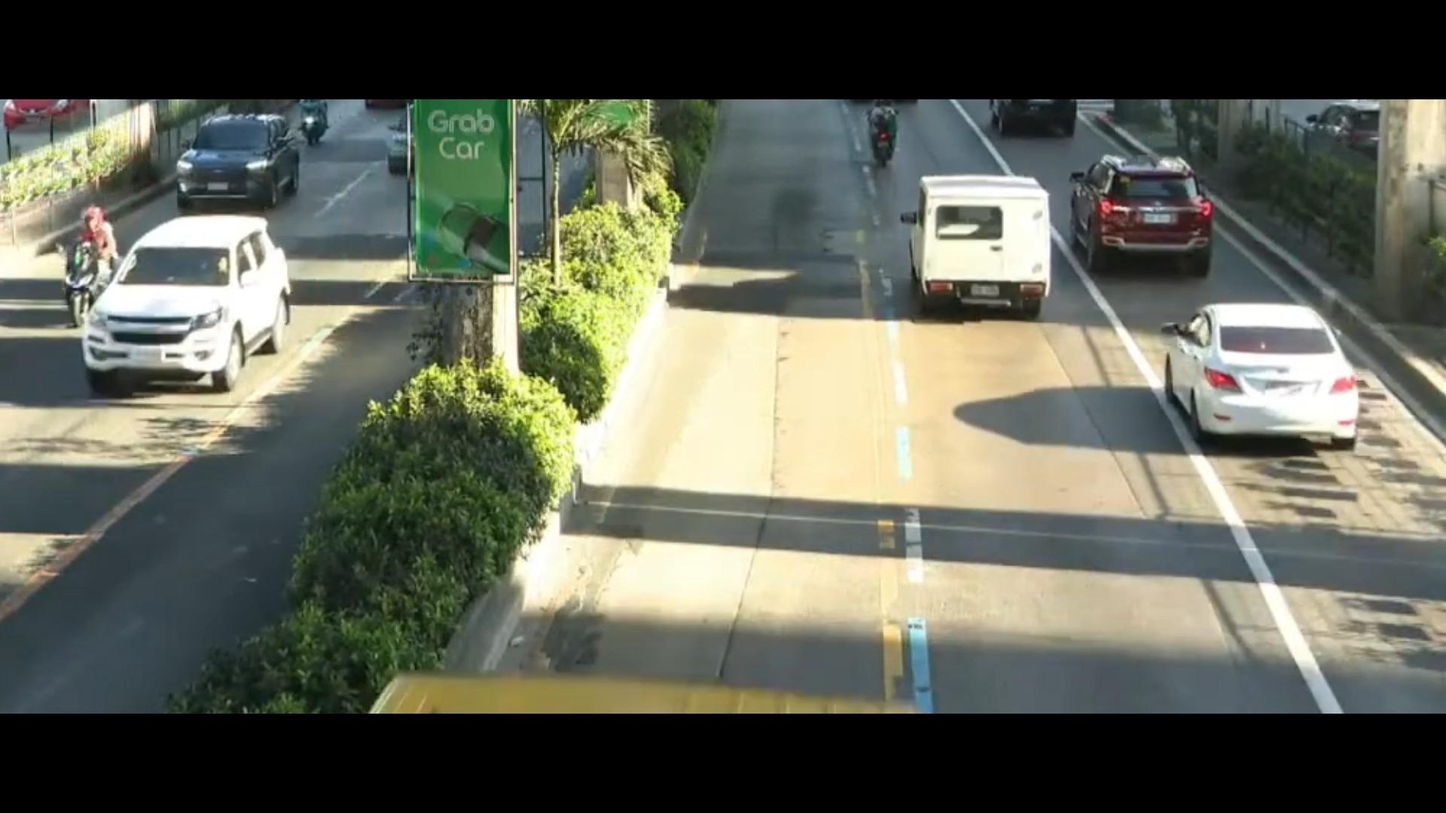Motorcycle: (34, 187, 162, 331), (850, 100, 919, 169)
Multicab: (858, 155, 1085, 330)
SUV: (69, 202, 311, 401), (1064, 147, 1232, 285), (153, 102, 319, 229)
Sedan: (1159, 272, 1372, 473)
